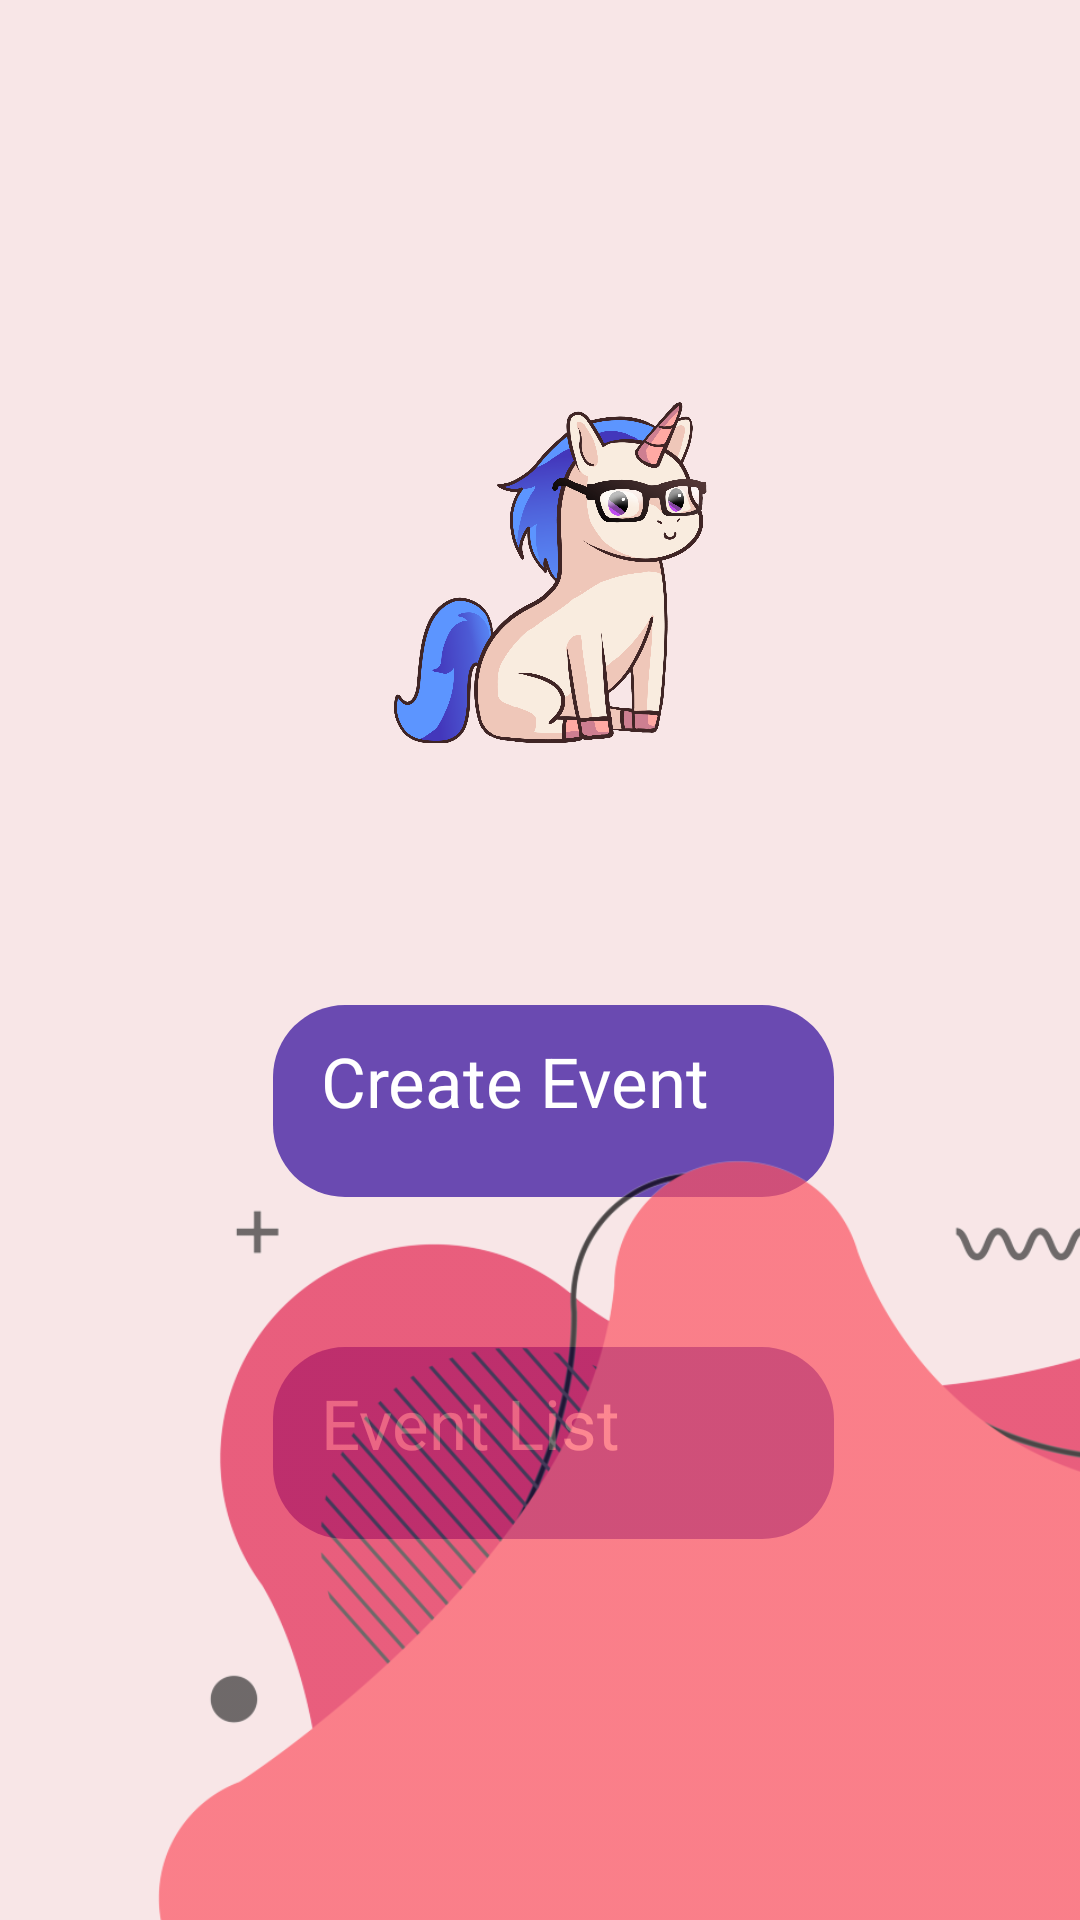

Where to tap for icons on this 1080 × 1920 app screen, as point (x, y):
unicorno prova prof: point (550, 572)
